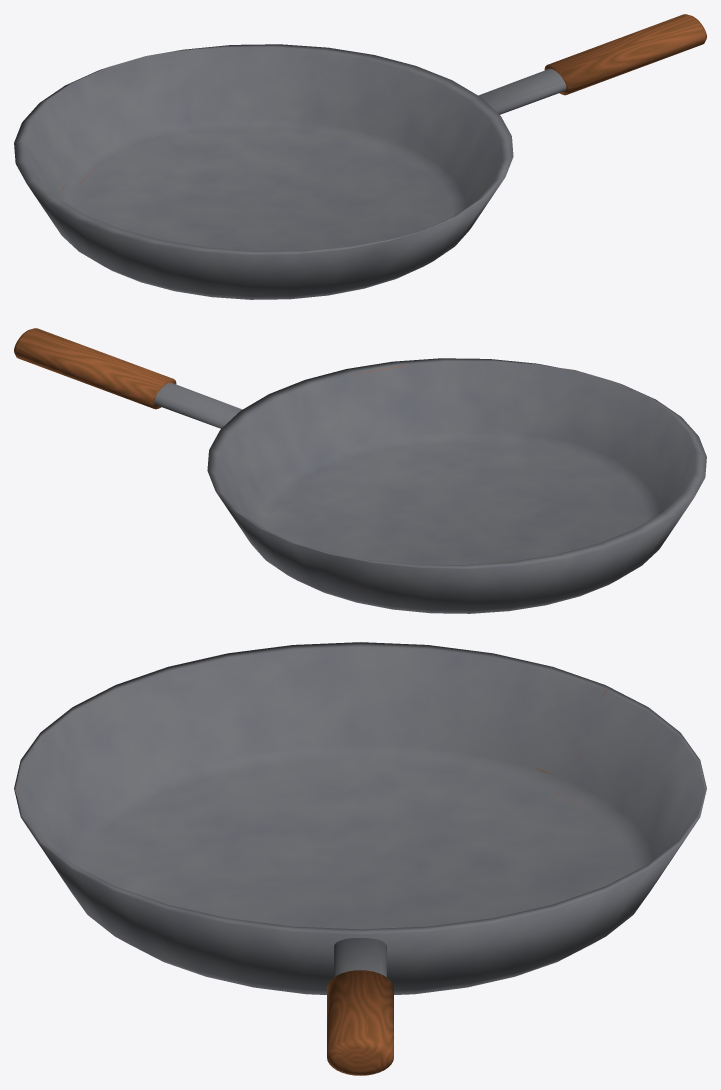
The model's file is Pan.glb.
3 renders of one model, top to bottom at view 1: azimuth 30°, elevation 25°; view 2: azimuth 150°, elevation 25°; view 3: azimuth 270°, elevation 25°, orthographic. The views are drawn at different scales.
Visible parts, largest first — view 1: mesh; view 2: mesh; view 3: mesh.
Part boxes in pixels (<box>): mesh: <box>14,14,706,299</box>; mesh: <box>14,328,706,613</box>; mesh: <box>14,642,706,1075</box>.
Bounding box in the file's own units: 2.9 × 0.3976 × 1.93.
Materials: 1 (1 with a texture image).
